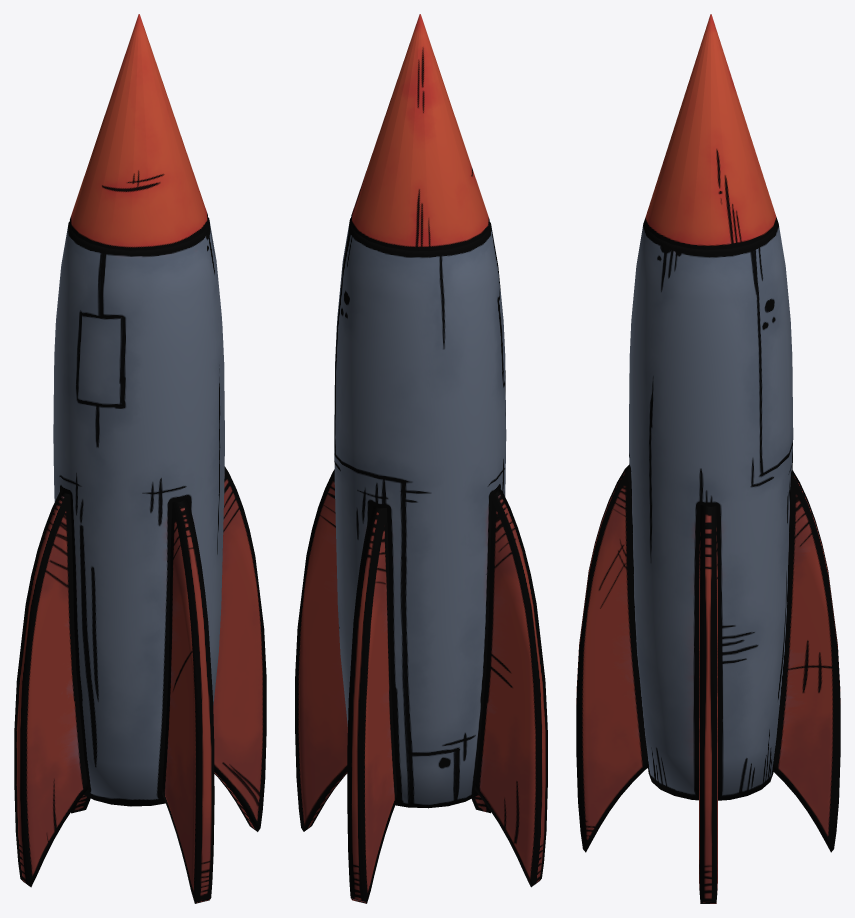
File: mshAMOHoming.fbx
The picture shows the model from 3 angles, left to right: view 1: azimuth 30°, elevation 25°; view 2: azimuth 150°, elevation 25°; view 3: azimuth 270°, elevation 25°; orthographic projection.
Parts seen in each view (by area): view 1: homing_geo1; view 2: homing_geo1; view 3: homing_geo1.
Boxes of the visible parts, box(x1,y1,x2,y2) form: homing_geo1: box(14, 14, 266, 903); homing_geo1: box(295, 14, 547, 903); homing_geo1: box(576, 14, 840, 903).
Size of the model in its own units: 11.74 by 38.67 by 11.09.
1 material, 1 textured.
